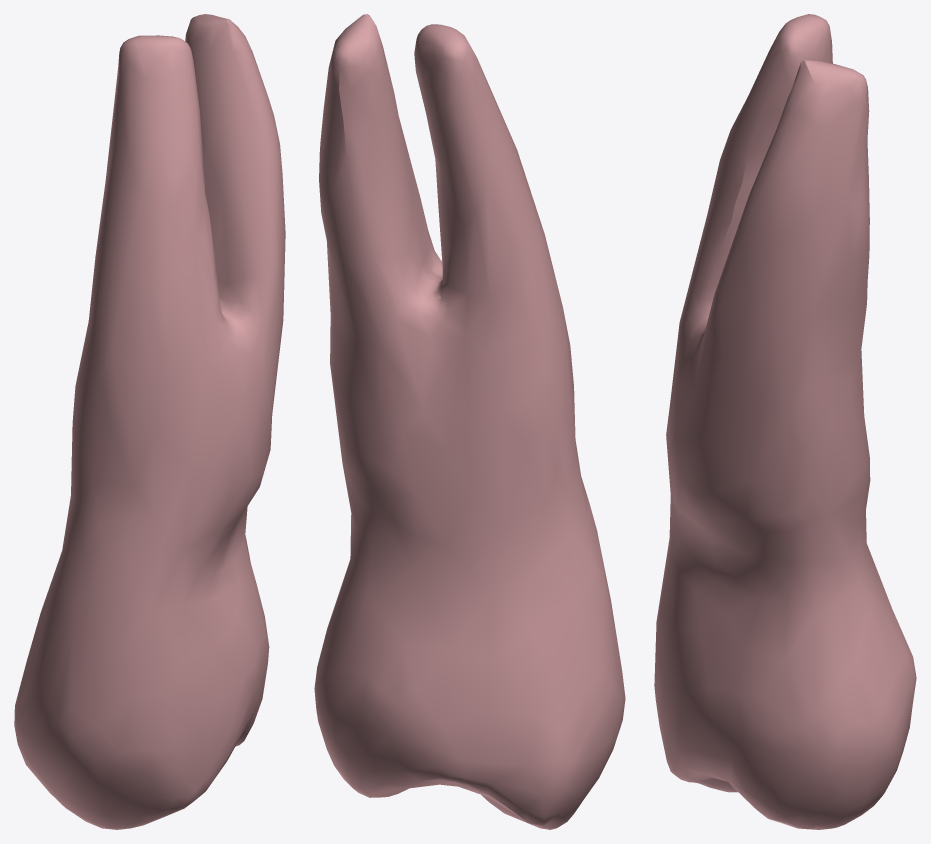
Rendered from fma55689_mm825m.glb.
The picture shows the model from 3 angles, left to right: view 1: azimuth 30°, elevation 25°; view 2: azimuth 150°, elevation 25°; view 3: azimuth 270°, elevation 25°; orthographic projection. The views are drawn at different scales.
Visible parts, largest first — view 1: FMA55689_MM825M; view 2: FMA55689_MM825M; view 3: FMA55689_MM825M.
Boxes of the visible parts, x1,y1,x2,y2 form: FMA55689_MM825M: [14, 14, 285, 829]; FMA55689_MM825M: [314, 14, 625, 829]; FMA55689_MM825M: [654, 14, 916, 829].
Size of the model in its own units: 0.00862 by 0.0247 by 0.00729.
